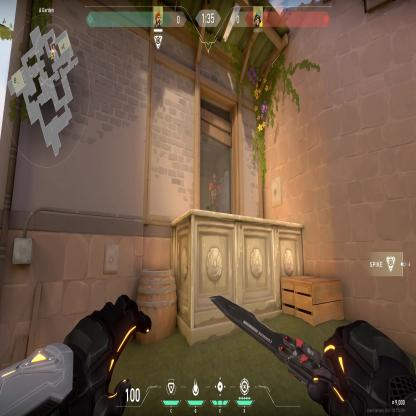enemy: (207, 170, 220, 213)
